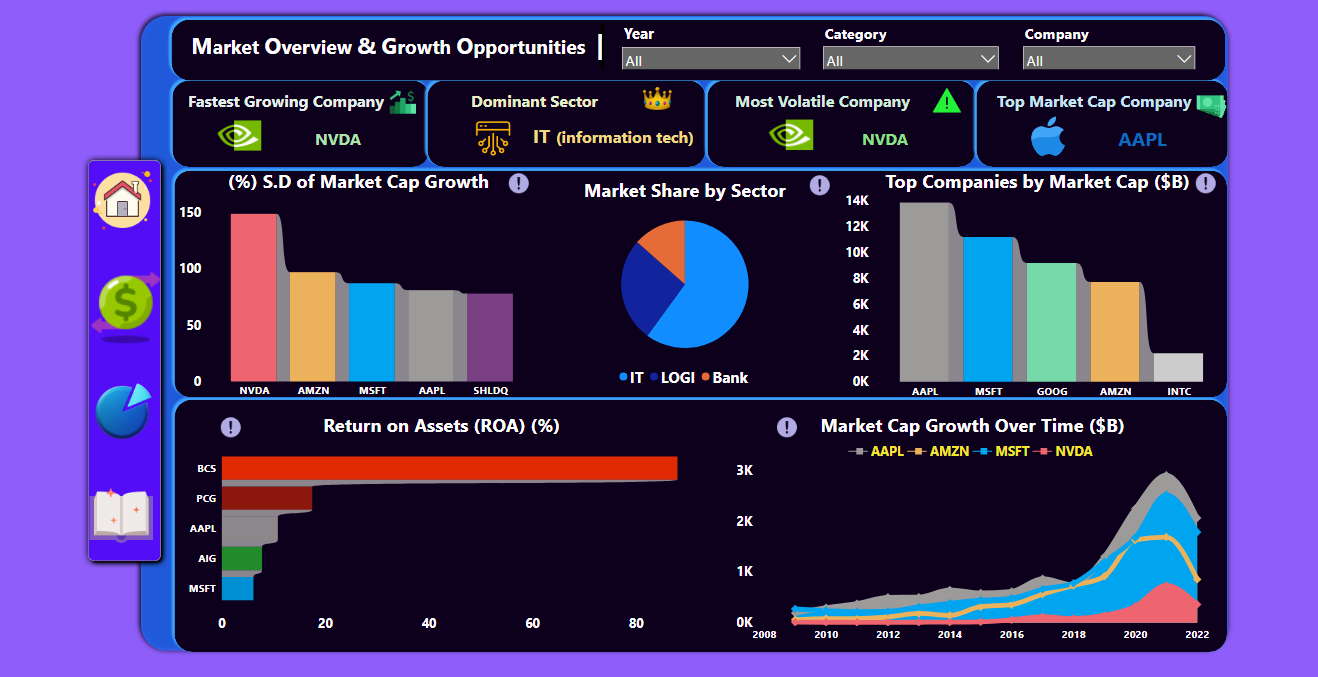

Layout of this report page (visuals, bound fields, positions):
{"tool":"powerbi","page":{"name":"Market overview 🏡🌟","canvas":[1920,1080],"ordinal":0},"visuals":[{"type":"shape","box":[87.6,0,1831.9,1078],"z":500},{"type":"shape","box":[145.7,640,1772.4,439],"z":1000},{"type":"lineChart","title":"Market Cap Growth  Over Time ($B)","fields":{"Category":["Financial Statements.Year"],"Y":["Sum(Financial Statements.Market Cap(in B USD))"],"Series":["Financial Statements.Company "]},"box":[1084.5,669.5,798.6,392.9],"z":2000},{"type":"barChart","title":"Return on Assets (ROA) (%)","fields":{"Category":["Financial Statements.Company "],"Y":["Sum(Financial Statements.Debt/Equity Ratio)"]},"box":[171.5,669.5,855.8,376.3],"z":3000},{"type":"shape","box":[145.7,258.2,1772.4,396.5],"z":4000},{"type":"shape","box":[142,108.8,446.3,162.3],"z":5000},{"type":"shape","box":[566.2,108.8,481.4,162.3],"z":6000},{"type":"shape","box":[1032.9,108.8,464.8,162.3],"z":7000},{"type":"shape","box":[1481,108.8,437.1,162.3],"z":8000},{"type":"shape","box":[0,240.3,141.6,688.6],"z":9000},{"type":"shape","box":[140.6,6.1,1774.9,120.2],"z":10000},{"type":"slicer","fields":{"Values":["Financial Statements.Year"]},"box":[889.3,16.1,317.2,82.3],"z":11000},{"type":"slicer","fields":{"Values":["Financial Statements.Category"]},"box":[1224.5,16.1,313.2,82.3],"z":12000},{"type":"image","box":[0,242.4,135.2,150.2],"z":13000},{"type":"image","box":[0,768,130.9,148],"z":14000},{"type":"image","box":[0,388.3,145.9,197.4],"z":15000},{"type":"image","box":[10.7,581.4,113.7,178.1],"z":16000},{"type":"shape","box":[834.1,22.7,68.1,76.4],"z":17000},{"type":"slicer","fields":{"Values":["Financial Statements.Company "]},"box":[1557.8,16.1,307.1,82.3],"z":18000},{"type":"textbox","box":[156.6,22.1,821,172.6],"z":19000},{"type":"card","fields":{"Values":["Financial Statements.TopMarketCapCompany"]},"box":[1672.3,179.6,192,68.1],"z":23000},{"type":"textbox","box":[1520.2,128.4,342.3,63.2],"z":24000},{"type":"textbox","box":[1084.1,128.4,326,63.2],"z":25000},{"type":"image","box":[1843.6,128,76.4,64],"z":26000},{"type":"image","box":[1137.8,165.2,87.8,85.8],"z":27000},{"type":"textbox","box":[1294.5,192,163.1,66.1],"z":28000},{"type":"textbox","box":[644.1,128,243.6,64],"z":29000},{"type":"image","box":[920.8,113.5,78.5,68.1],"z":30000},{"type":"image","box":[644.1,179.6,84.6,68.1],"z":31000},{"type":"textbox","box":[747.4,181.7,311.7,76.4],"z":32000},{"type":"textbox","box":[171.4,128,390.2,64],"z":33000},{"type":"image","box":[218.8,167.2,88.8,84.6],"z":34000},{"type":"textbox","box":[384,192,177.5,64],"z":35000},{"type":"image","box":[1556.6,161,105.3,97],"z":36000},{"type":"columnChart","title":"(%) S.D of Market Cap Growth","fields":{"Category":["Financial Statements.Company "],"Y":["Financial Statements.Market Cap StdDev"]},"box":[156.8,263.7,608.6,392.9],"z":37000},{"type":"columnChart","title":"Top Companies by Market Cap ($B)","fields":{"Category":["Financial Statements.Company "],"Y":["Sum(Financial Statements.Market Cap(in B USD))"]},"box":[1267.5,262.9,652.1,393.3],"z":38000},{"type":"pieChart","title":"Market Share by Sector","fields":{"Y":["Sum(Financial Statements.Revenue)"],"Category":["Financial Statements.Category"]},"box":[807.8,278.5,392.9,357.8],"z":39000},{"type":"image","box":[218,670.4,59.1,50.9],"z":40000},{"type":"image","box":[1143.2,670.4,63.2,50.9],"z":41000},{"type":"image","box":[1200.2,266.9,59.1,50.9],"z":42000},{"type":"image","box":[698.9,262.9,59.1,50.9],"z":43000},{"type":"image","box":[1844.2,262.9,59.1,50.9],"z":44000},{"type":"image","box":[503.3,114.1,63.2,79.5],"z":45000},{"type":"image","box":[1385.7,122.3,112.1,57.1],"z":46000}]}

Visuals, with their boxes on the page's 1920x1080 design canvas (x1, y1, x2, y2). These are canvas units, not pixel positions in the 1318x677 screenshot, which may show the page scaled, cropped or inside an application window:
shape: {"x1": 88, "y1": 0, "x2": 1920, "y2": 1078}
shape: {"x1": 146, "y1": 640, "x2": 1918, "y2": 1079}
"Market Cap Growth  Over Time ($B)" lineChart: {"x1": 1084, "y1": 670, "x2": 1883, "y2": 1062}
"Return on Assets (ROA) (%)" barChart: {"x1": 172, "y1": 670, "x2": 1027, "y2": 1046}
shape: {"x1": 146, "y1": 258, "x2": 1918, "y2": 655}
shape: {"x1": 142, "y1": 109, "x2": 588, "y2": 271}
shape: {"x1": 566, "y1": 109, "x2": 1048, "y2": 271}
shape: {"x1": 1033, "y1": 109, "x2": 1498, "y2": 271}
shape: {"x1": 1481, "y1": 109, "x2": 1918, "y2": 271}
shape: {"x1": 0, "y1": 240, "x2": 142, "y2": 929}
shape: {"x1": 141, "y1": 6, "x2": 1916, "y2": 126}
slicer - Financial Statements.Year: {"x1": 889, "y1": 16, "x2": 1206, "y2": 98}
slicer - Financial Statements.Category: {"x1": 1224, "y1": 16, "x2": 1538, "y2": 98}
image: {"x1": 0, "y1": 242, "x2": 135, "y2": 393}
image: {"x1": 0, "y1": 768, "x2": 131, "y2": 916}
image: {"x1": 0, "y1": 388, "x2": 146, "y2": 586}
image: {"x1": 11, "y1": 581, "x2": 124, "y2": 760}
shape: {"x1": 834, "y1": 23, "x2": 902, "y2": 99}
slicer - Financial Statements.Company : {"x1": 1558, "y1": 16, "x2": 1865, "y2": 98}
textbox: {"x1": 157, "y1": 22, "x2": 978, "y2": 195}
card - Financial Statements.TopMarketCapCompany: {"x1": 1672, "y1": 180, "x2": 1864, "y2": 248}
textbox: {"x1": 1520, "y1": 128, "x2": 1862, "y2": 192}
textbox: {"x1": 1084, "y1": 128, "x2": 1410, "y2": 192}
image: {"x1": 1844, "y1": 128, "x2": 1920, "y2": 192}
image: {"x1": 1138, "y1": 165, "x2": 1226, "y2": 251}
textbox: {"x1": 1294, "y1": 192, "x2": 1458, "y2": 258}
textbox: {"x1": 644, "y1": 128, "x2": 888, "y2": 192}
image: {"x1": 921, "y1": 114, "x2": 999, "y2": 182}
image: {"x1": 644, "y1": 180, "x2": 729, "y2": 248}
textbox: {"x1": 747, "y1": 182, "x2": 1059, "y2": 258}
textbox: {"x1": 171, "y1": 128, "x2": 562, "y2": 192}
image: {"x1": 219, "y1": 167, "x2": 308, "y2": 252}
textbox: {"x1": 384, "y1": 192, "x2": 562, "y2": 256}
image: {"x1": 1557, "y1": 161, "x2": 1662, "y2": 258}
"(%) S.D of Market Cap Growth" columnChart: {"x1": 157, "y1": 264, "x2": 765, "y2": 657}
"Top Companies by Market Cap ($B)" columnChart: {"x1": 1268, "y1": 263, "x2": 1920, "y2": 656}
"Market Share by Sector" pieChart: {"x1": 808, "y1": 278, "x2": 1201, "y2": 636}
image: {"x1": 218, "y1": 670, "x2": 277, "y2": 721}
image: {"x1": 1143, "y1": 670, "x2": 1206, "y2": 721}
image: {"x1": 1200, "y1": 267, "x2": 1259, "y2": 318}
image: {"x1": 699, "y1": 263, "x2": 758, "y2": 314}
image: {"x1": 1844, "y1": 263, "x2": 1903, "y2": 314}
image: {"x1": 503, "y1": 114, "x2": 566, "y2": 194}
image: {"x1": 1386, "y1": 122, "x2": 1498, "y2": 179}
